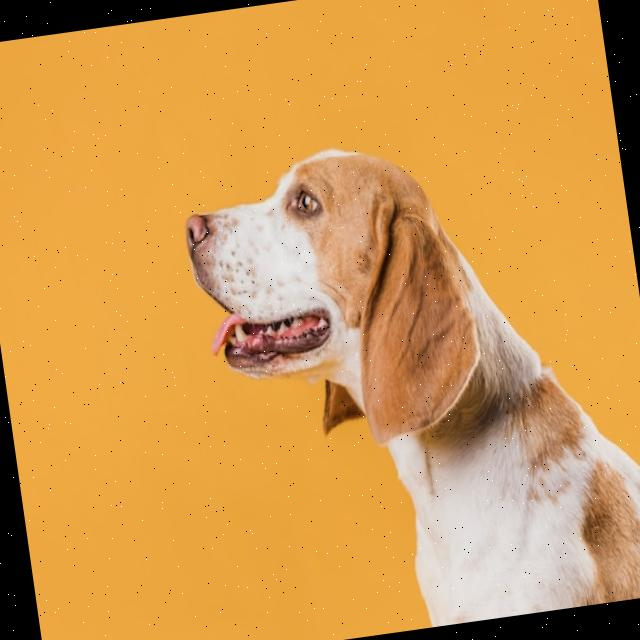Dog: (176, 109, 640, 640)
